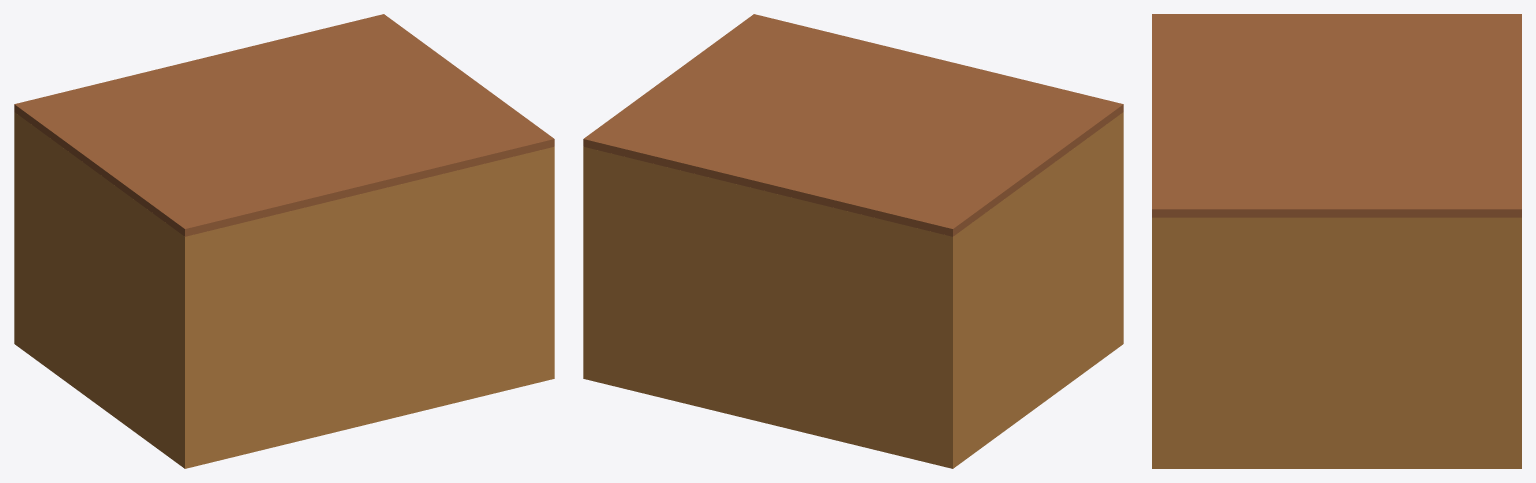
The picture shows the model from 3 angles, left to right: view 1: azimuth 30°, elevation 25°; view 2: azimuth 150°, elevation 25°; view 3: azimuth 270°, elevation 25°; orthographic projection. The views are drawn at different scales.
Visible parts, largest first — view 1: Body, Lid_1, Lid_0; view 2: Body, Lid_0, Lid_1; view 3: Body, Lid_0, Lid_1.
Boxes of the visible parts, bbox=[...] form: Body: bbox=[14, 112, 554, 468]; Lid_1: bbox=[99, 76, 554, 236]; Lid_0: bbox=[14, 14, 468, 173]; Body: bbox=[583, 112, 1123, 468]; Lid_0: bbox=[583, 76, 1038, 236]; Lid_1: bbox=[669, 14, 1123, 173]; Body: bbox=[1152, 217, 1521, 468]; Lid_0: bbox=[1337, 14, 1521, 217]; Lid_1: bbox=[1152, 14, 1336, 217].
Bounding box in the file's own units: 1 × 0.62 × 0.8.
